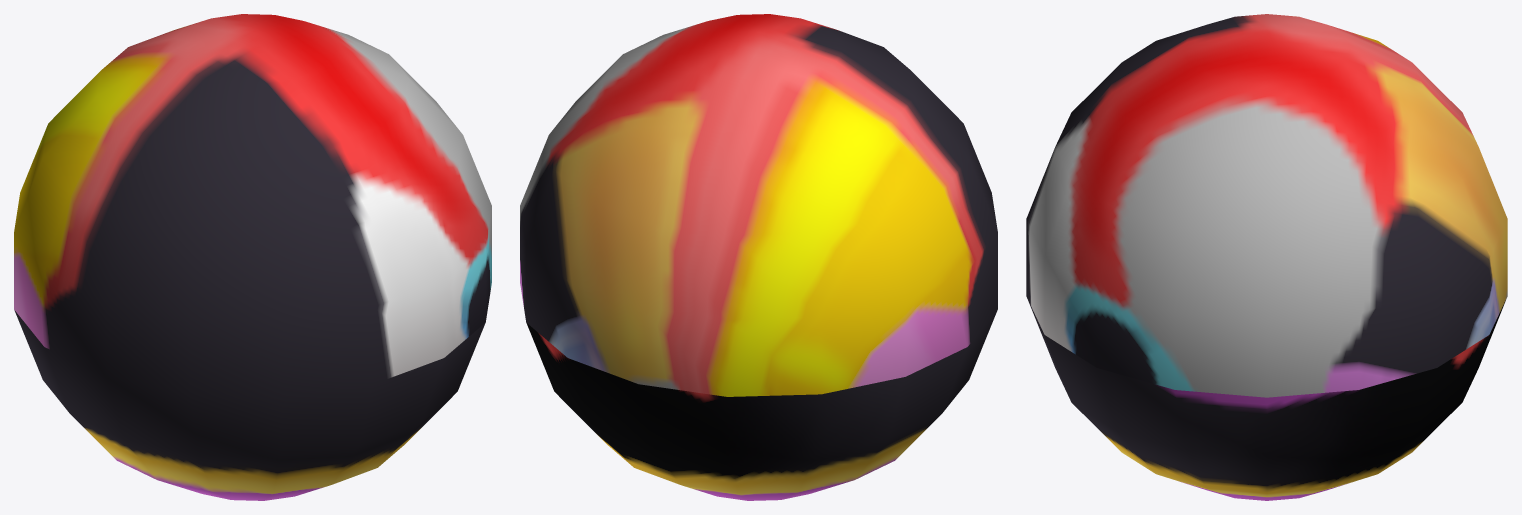
The model's file is dif8.2.fbx.
The picture shows the model from 3 angles, left to right: view 1: azimuth 30°, elevation 25°; view 2: azimuth 150°, elevation 25°; view 3: azimuth 270°, elevation 25°; orthographic projection.
Parts seen in each view (by area): view 1: Sphere.006; view 2: Sphere.006; view 3: Sphere.006.
Boxes of the visible parts, x1,y1,x2,y2 form: Sphere.006: (14, 14, 491, 500); Sphere.006: (520, 14, 997, 500); Sphere.006: (1026, 14, 1507, 500).
Bounding box in the file's own units: 259 × 266 × 259.
